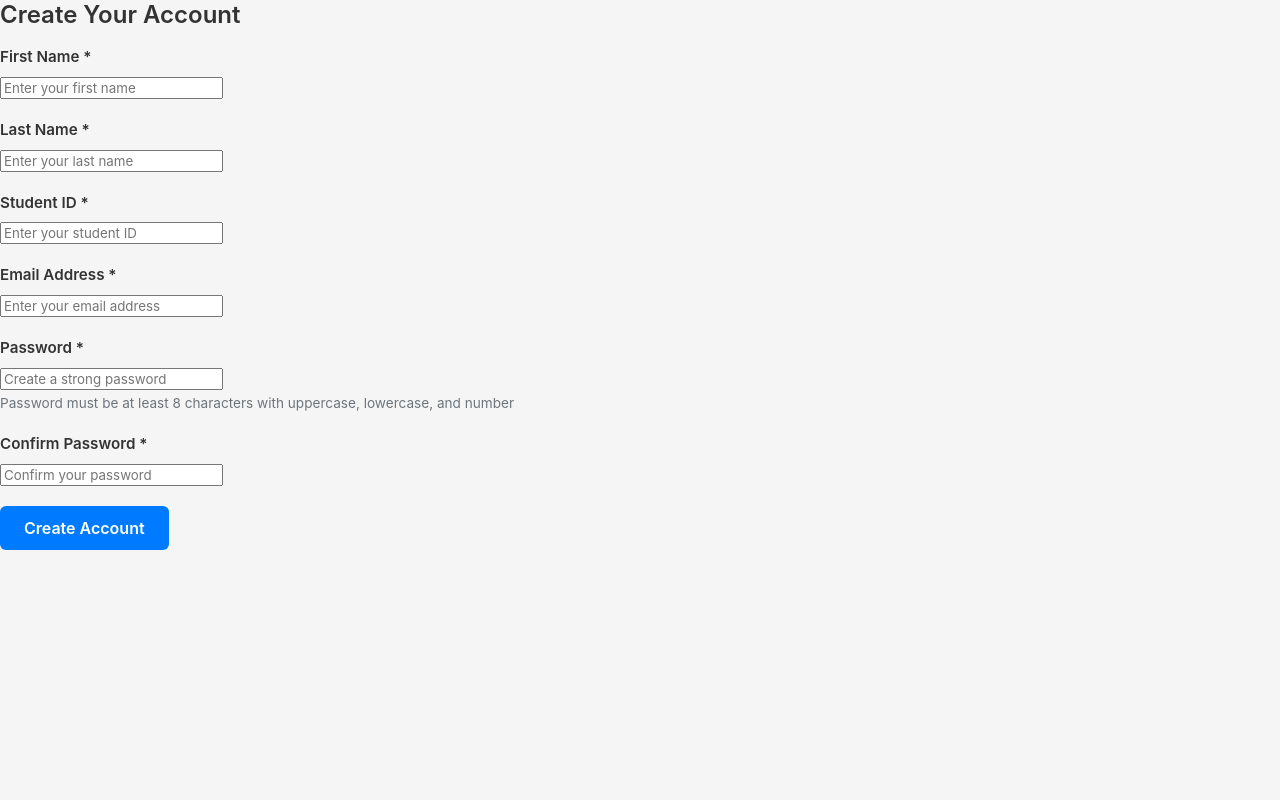
Test: RegisterForm › displays validation error for invalid student ID format
Type "123" into the field labelled "Student ID *".
click(112, 233); type("123")  # box [0,222,223,244]
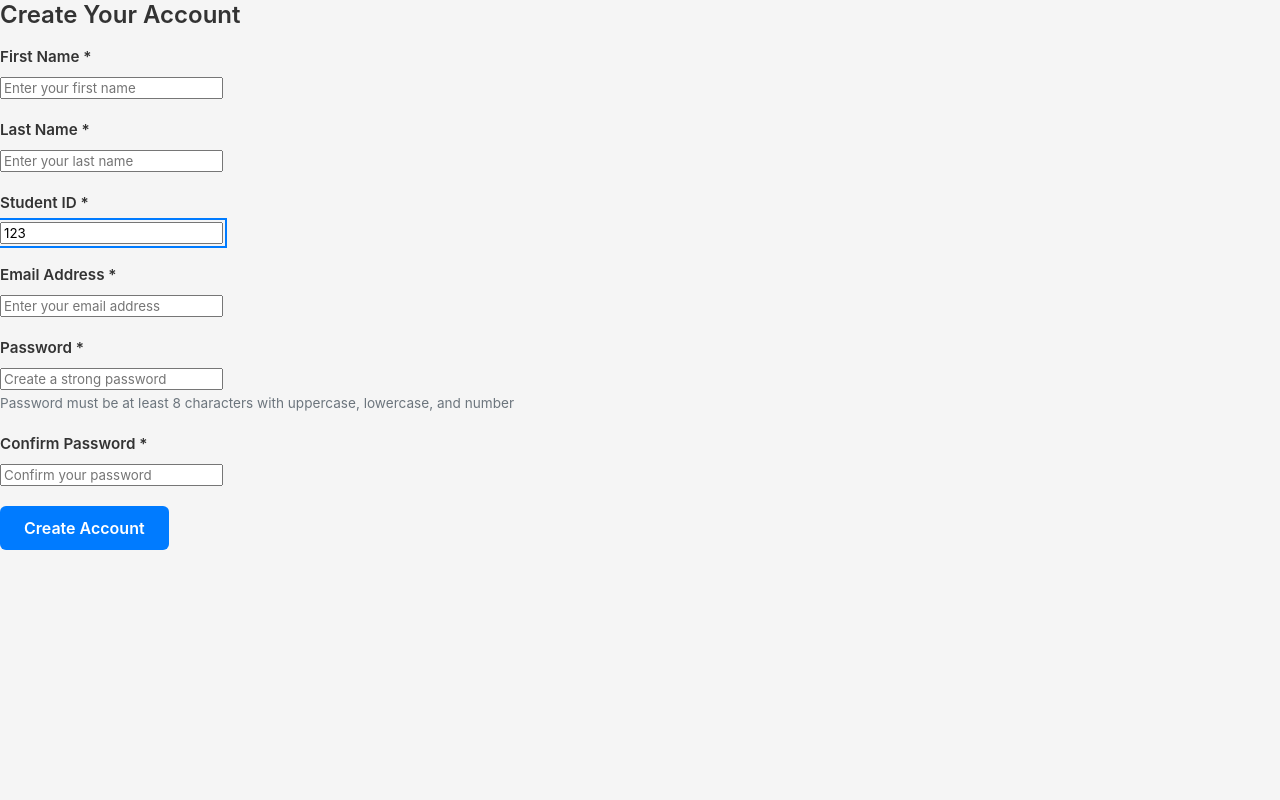
Click the button "Create Account".
click(84, 528)  # box [0,506,169,550]
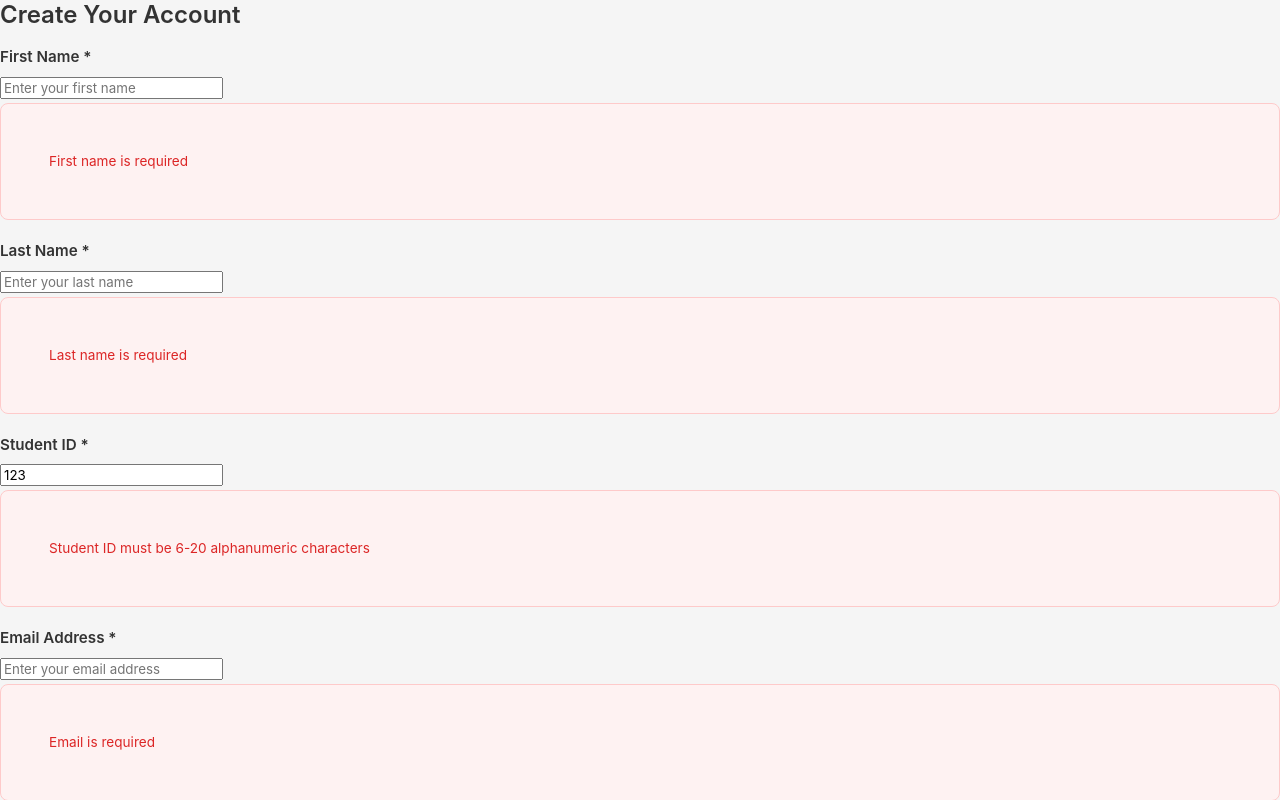
Result: the text "Student ID must be 6-20 alphanumeric characters" is shown at [0,490,1279,608]
